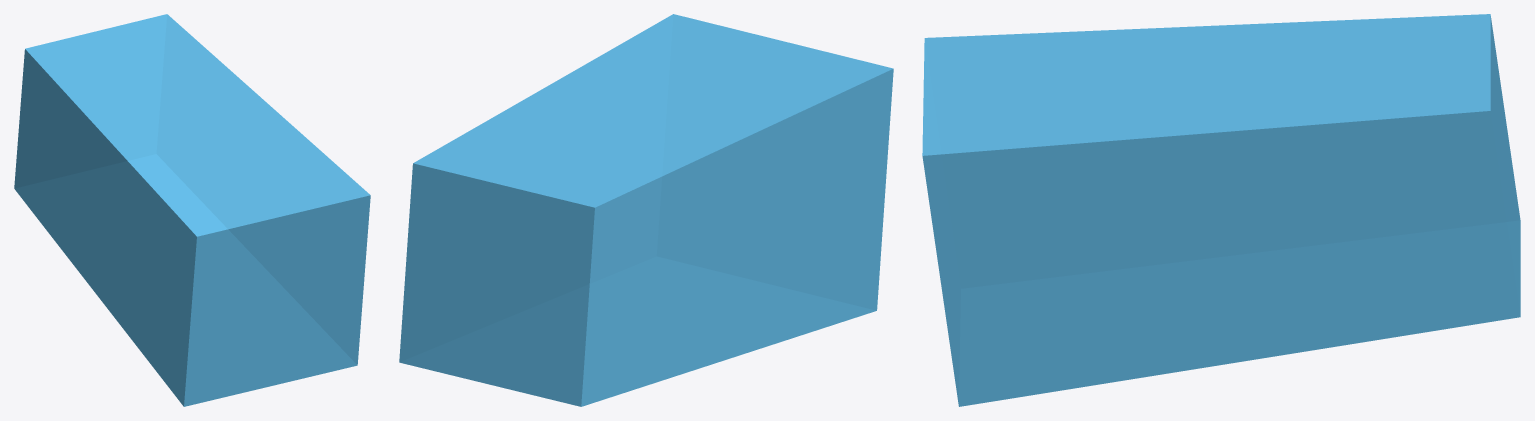
File: Event_420604493_HBrechit_1.fbx
3 renders of one model, left to right at view 1: azimuth 30°, elevation 25°; view 2: azimuth 150°, elevation 25°; view 3: azimuth 270°, elevation 25°, orthographic. The views are drawn at different scales.
Visible parts, largest first — view 1: Model; view 2: Model; view 3: Model.
Boxes of the visible parts, <box> form: Model: <box>14,14,370,406</box>; Model: <box>399,14,893,406</box>; Model: <box>922,14,1520,406</box>.
Bounding box in the file's own units: 0.4877 × 0.5715 × 1.05.
